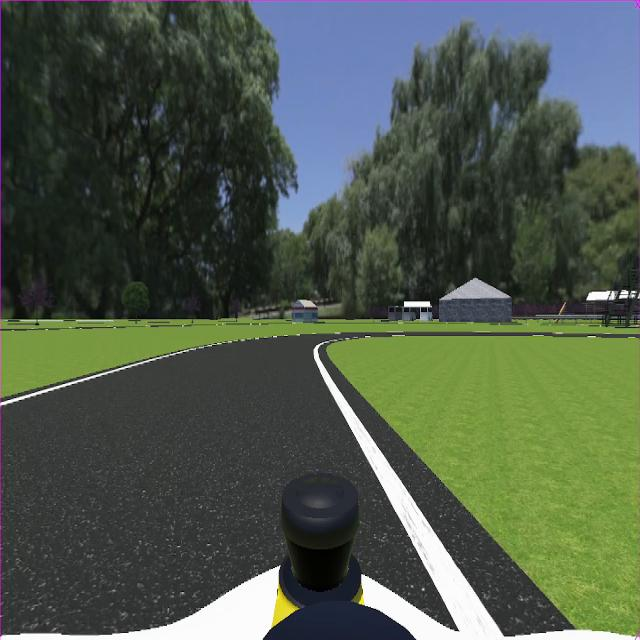road: (2, 340, 450, 632)
solid_line: (314, 345, 500, 638), (0, 340, 236, 408)
